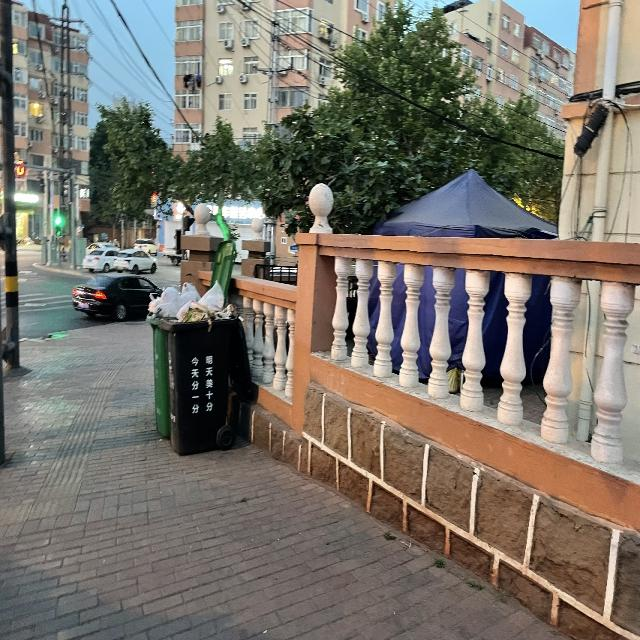overflow: (158, 280, 252, 455), (145, 282, 201, 438)
